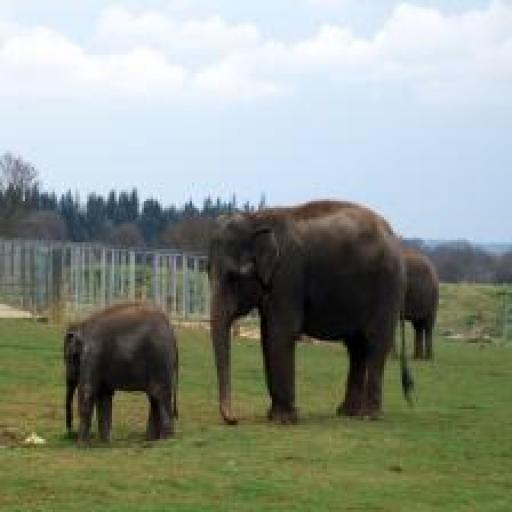Elephant: (206, 201, 415, 423), (62, 300, 183, 449), (402, 249, 439, 360)
